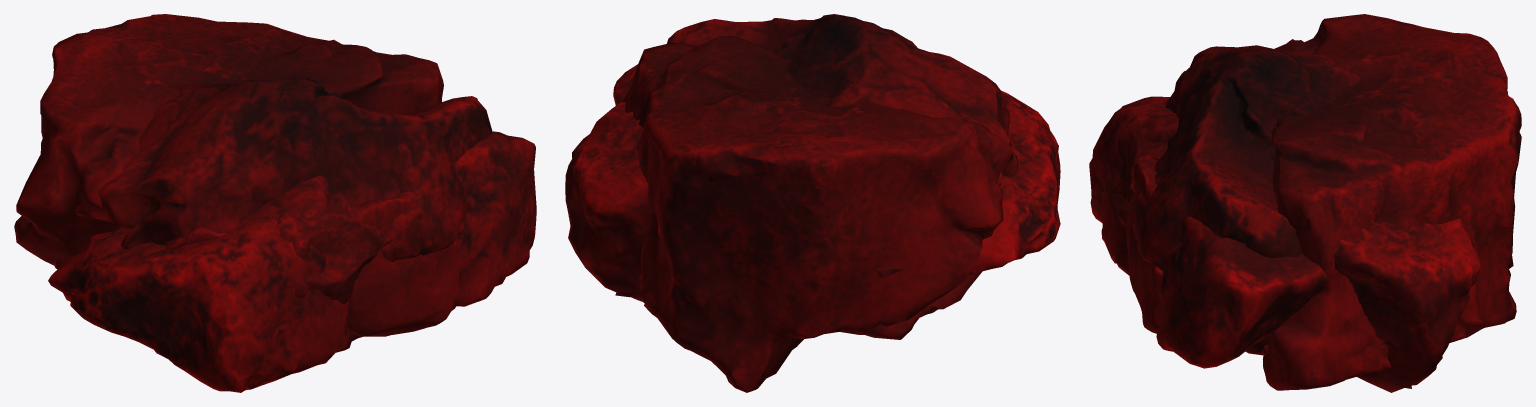
The model's file is rock_moss_set_02.gltf.
3 views of the same model, side by side, from view 1: azimuth 30°, elevation 25°; view 2: azimuth 150°, elevation 25°; view 3: azimuth 270°, elevation 25° (orthographic). The views are drawn at different scales.
Parts seen in each view (by area): view 1: rock_moss_set_02_rock10, rock_moss_set_02_rock11, rock_moss_set_02_rock13, rock_moss_set_02_rock07, rock_moss_set_02_rock12; view 2: rock_moss_set_02_rock13, rock_moss_set_02_rock11, rock_moss_set_02_rock10; view 3: rock_moss_set_02_rock13, rock_moss_set_02_rock11, rock_moss_set_02_rock10, rock_moss_set_02_rock07, rock_moss_set_02_rock12.
Part boxes in pixels (x1,y1,x2,y2): rock_moss_set_02_rock10: [48, 131, 536, 392]; rock_moss_set_02_rock11: [74, 77, 492, 261]; rock_moss_set_02_rock13: [14, 14, 443, 265]; rock_moss_set_02_rock07: [348, 191, 459, 336]; rock_moss_set_02_rock12: [164, 191, 393, 339]; rock_moss_set_02_rock13: [623, 36, 1013, 392]; rock_moss_set_02_rock11: [565, 14, 1018, 339]; rock_moss_set_02_rock10: [613, 64, 1060, 274]; rock_moss_set_02_rock13: [1263, 14, 1521, 390]; rock_moss_set_02_rock11: [1133, 45, 1480, 392]; rock_moss_set_02_rock10: [1089, 96, 1326, 368]; rock_moss_set_02_rock07: [1126, 158, 1164, 333]; rock_moss_set_02_rock12: [1100, 99, 1375, 355].
Size of the model in its own units: 2.22 by 1.37 by 1.9.
1 material, 1 textured.
